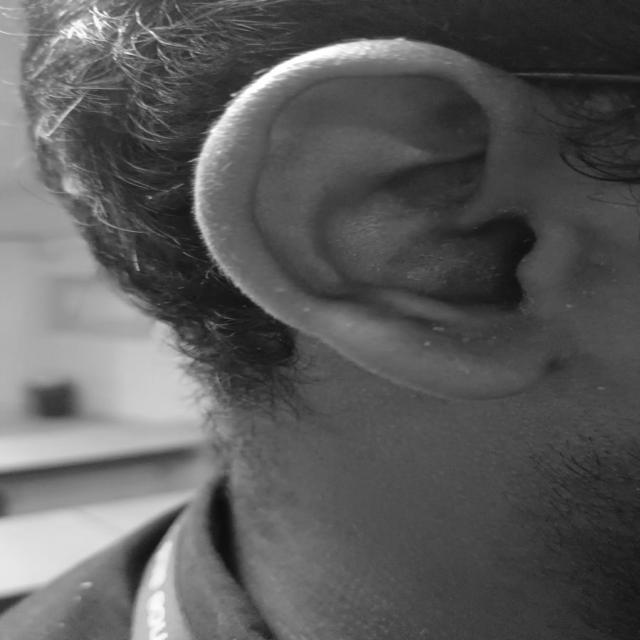ear: (196, 39, 570, 399)
